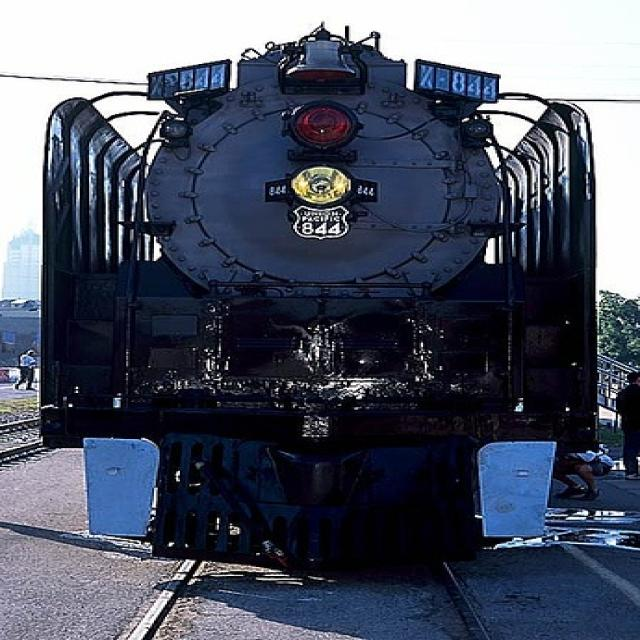person: (558, 453, 615, 500), (617, 374, 639, 479), (12, 349, 40, 390)
train: (40, 23, 600, 581)
